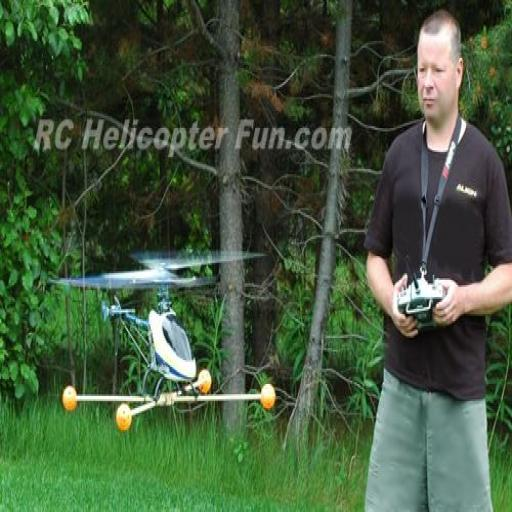helicopter: (64, 254, 282, 428)
